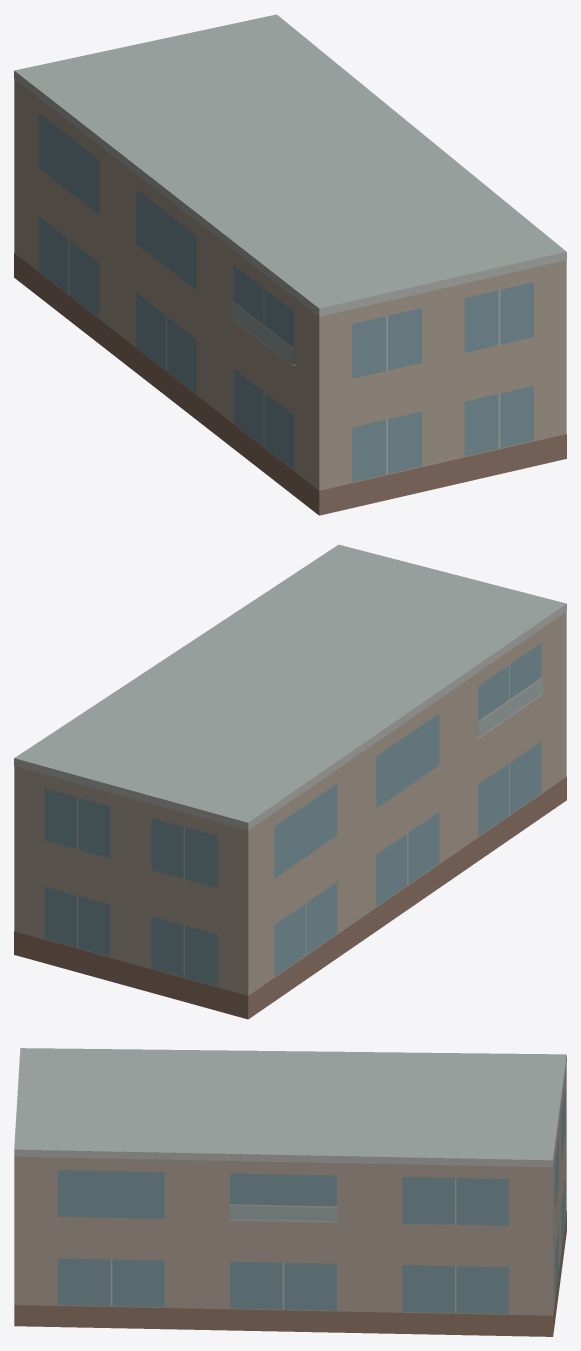
The model's file is survey-upis-32992093.glb.
3 views of the same model, one above another, from view 1: azimuth 30°, elevation 25°; view 2: azimuth 150°, elevation 25°; view 3: azimuth 270°, elevation 25° (orthographic). The views are drawn at different scales.
Parts seen in each view (by area): view 1: survey-upis-32992093.tmp; view 2: survey-upis-32992093.tmp; view 3: survey-upis-32992093.tmp.
Boxes of the visible parts, box(x1,y1,x2,y2) form: survey-upis-32992093.tmp: box(14, 14, 566, 515); survey-upis-32992093.tmp: box(14, 544, 566, 1019); survey-upis-32992093.tmp: box(14, 1048, 566, 1336).
Size of the model in its own units: 8.33 by 6.1 by 17.32.
